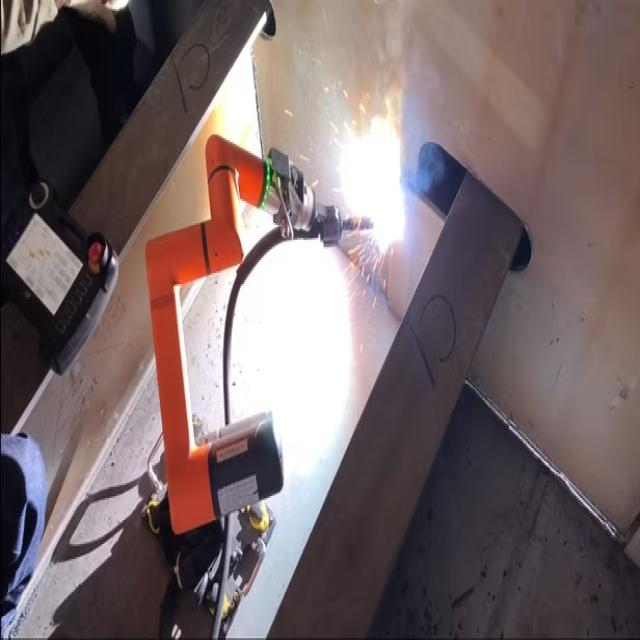welding: (341, 138, 404, 248)
